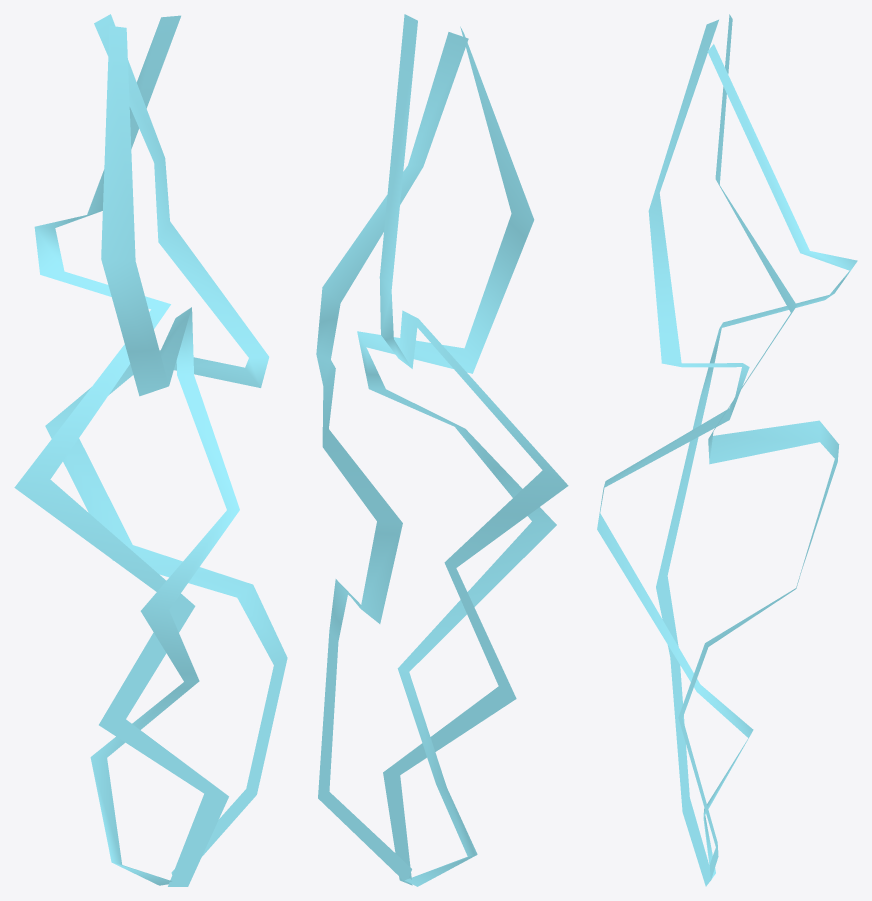
Rendered from electricidad_pasillo-002.gltf.
3 renders of one model, left to right at view 1: azimuth 30°, elevation 25°; view 2: azimuth 150°, elevation 25°; view 3: azimuth 270°, elevation 25°, orthographic. The views are drawn at different scales.
Visible parts, largest first — view 1: Electr-Pasillo-f.002; view 2: Electr-Pasillo-f.002; view 3: Electr-Pasillo-f.002.
Part boxes in pixels (x1,y1,x2,y2): Electr-Pasillo-f.002: (14,14,287,886); Electr-Pasillo-f.002: (316,14,568,886); Electr-Pasillo-f.002: (597,14,857,886).
Bounding box in the file's own units: 1.53 × 4.98 × 1.41.
Materials: 1 (1 with a texture image).
